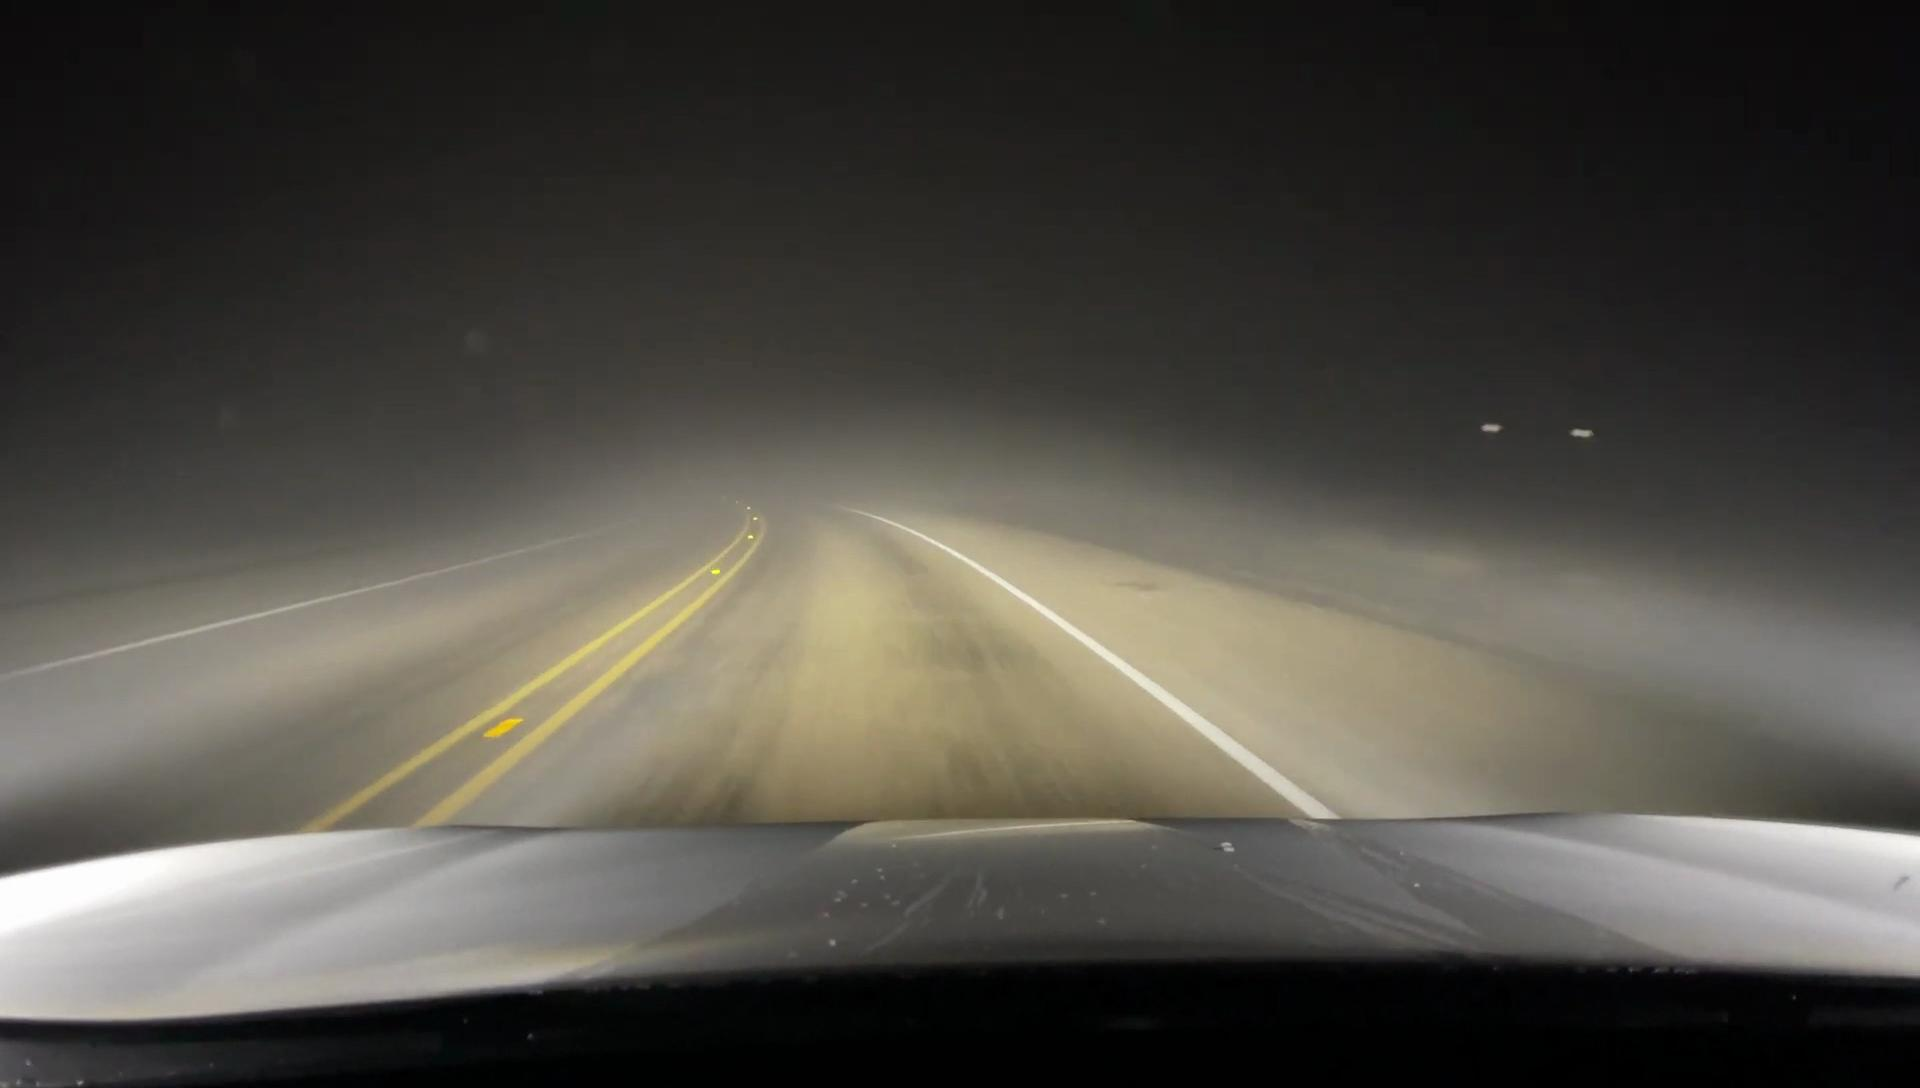road-lanes: (469, 508, 1291, 818)
